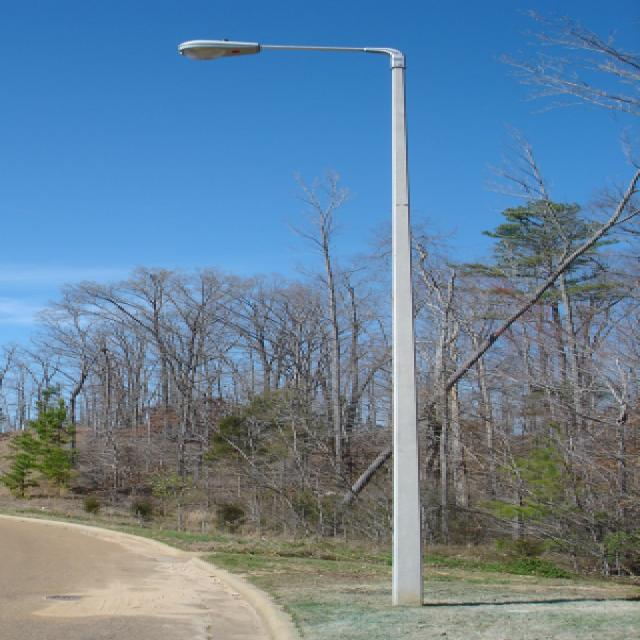Electric pole: (178, 40, 422, 608)
